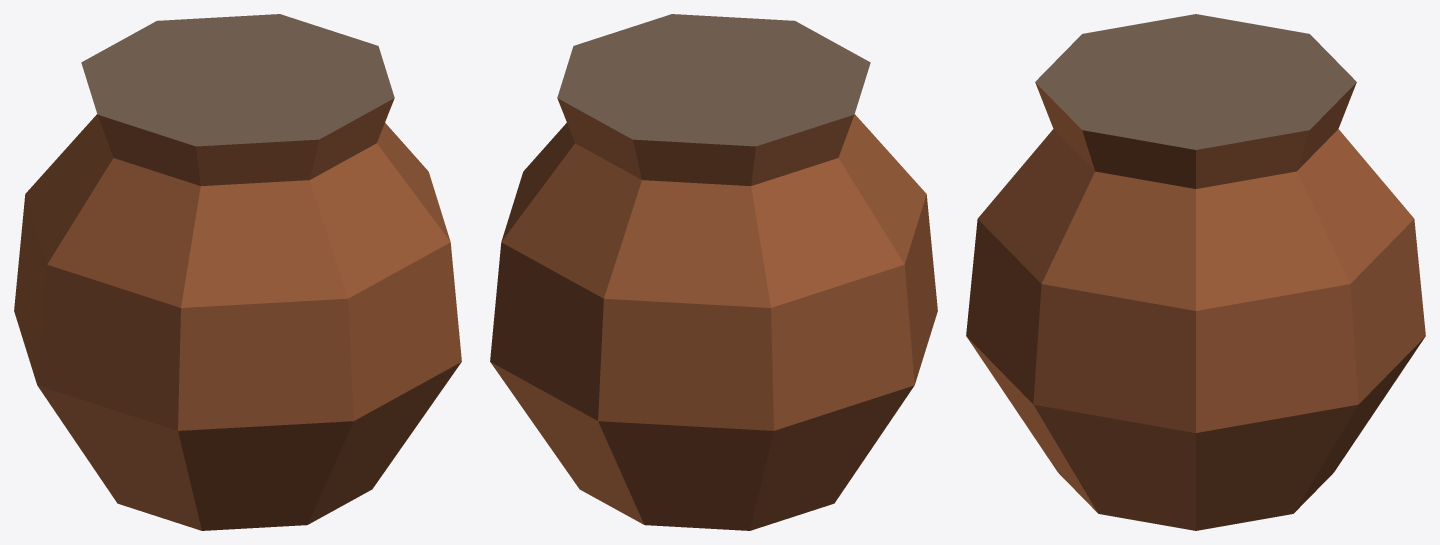
File: w3d_item_clay_pot_s.glb
3 views of the same model, side by side, from view 1: azimuth 30°, elevation 25°; view 2: azimuth 150°, elevation 25°; view 3: azimuth 270°, elevation 25° (orthographic).
Parts seen in each view (by area): view 1: item_009_clay_pot_s; view 2: item_009_clay_pot_s; view 3: item_009_clay_pot_s.
Part boxes in pixels (bbox=[...]): item_009_clay_pot_s: bbox=[14, 14, 461, 530]; item_009_clay_pot_s: bbox=[490, 14, 937, 530]; item_009_clay_pot_s: bbox=[966, 14, 1425, 530].
Bounding box in the file's own units: 0.32 × 0.3 × 0.32.
